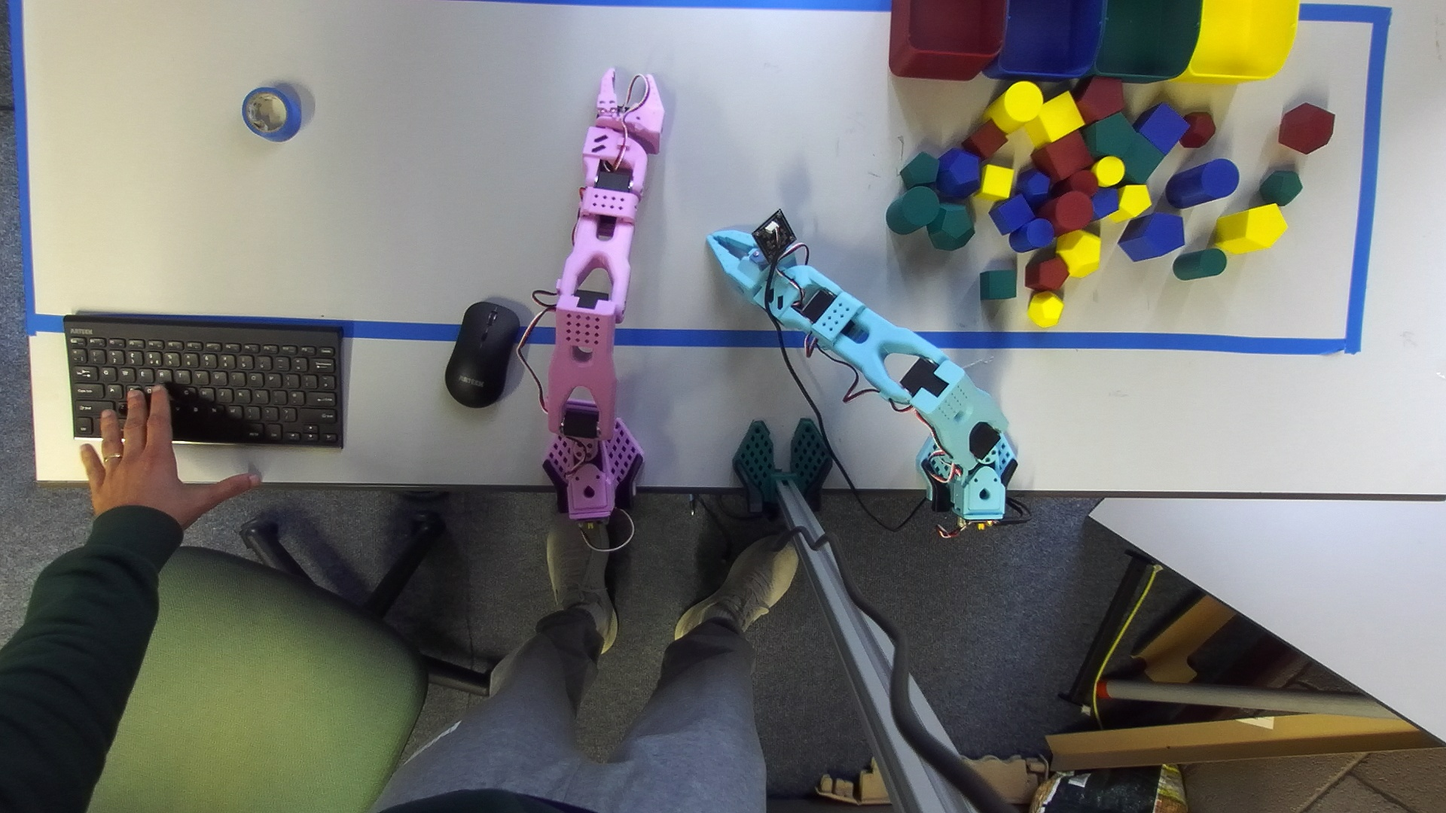bin: (1177, 0, 1298, 83), (984, 0, 1105, 79), (889, 0, 1006, 80), (1094, 0, 1200, 82)
cube: (1026, 93, 1084, 146), (1031, 131, 1092, 181), (1133, 103, 1188, 154), (1123, 134, 1164, 183), (961, 120, 1007, 159), (990, 194, 1034, 234), (978, 163, 1013, 201), (980, 269, 1016, 300)
cylinder: (1165, 159, 1239, 208), (984, 81, 1042, 134), (886, 186, 939, 234), (1038, 190, 1093, 236), (1173, 248, 1226, 280), (1009, 218, 1054, 252), (1092, 156, 1124, 187), (1060, 169, 1098, 194)
dodecahedron: (1278, 102, 1334, 154), (936, 147, 981, 199), (926, 203, 974, 251), (1057, 230, 1100, 277), (1259, 169, 1302, 206), (1179, 112, 1216, 148), (1016, 168, 1051, 204), (1027, 292, 1063, 327)
gripper: (595, 68, 664, 153), (706, 229, 767, 306)
hexagonal: (1213, 203, 1286, 254), (1118, 212, 1185, 260), (1080, 113, 1138, 158), (1075, 77, 1124, 123), (1024, 255, 1068, 291), (899, 152, 938, 188)
